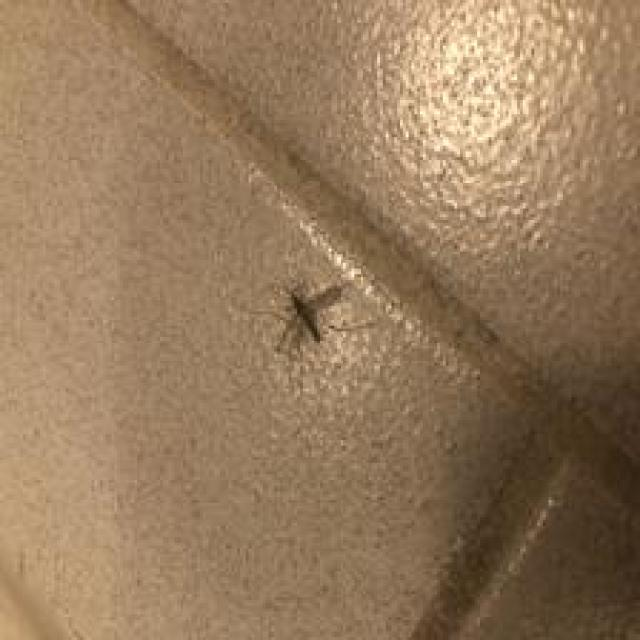Culex: (252, 280, 348, 360)
